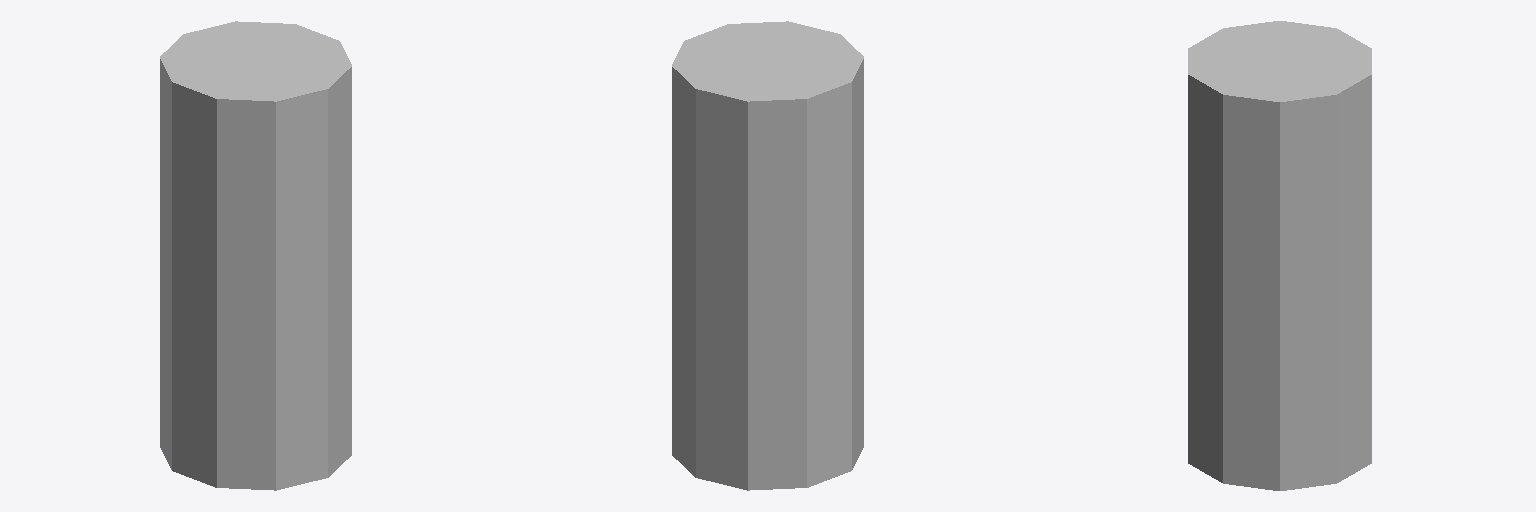
File: LaserBoss.obj
The picture shows the model from 3 angles: view 1: azimuth 30°, elevation 25°; view 2: azimuth 150°, elevation 25°; view 3: azimuth 270°, elevation 25°; orthographic projection.
Visible parts, largest first — view 1: LaserBoss; view 2: LaserBoss; view 3: LaserBoss.
Part boxes in pixels (x1,y1,x2,y2): LaserBoss: (160, 21, 351, 490); LaserBoss: (672, 21, 863, 490); LaserBoss: (1188, 21, 1371, 490).
Bounding box in the file's own units: 2 × 4.43 × 1.9.